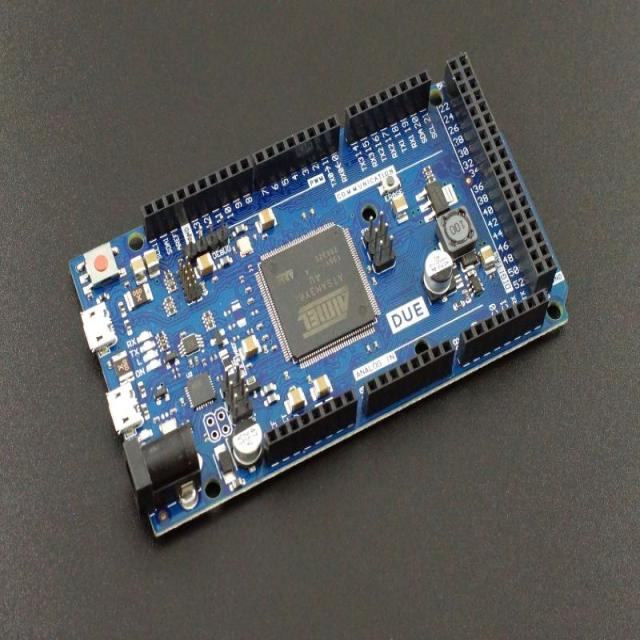Arduino-Due: (71, 55, 569, 540)
